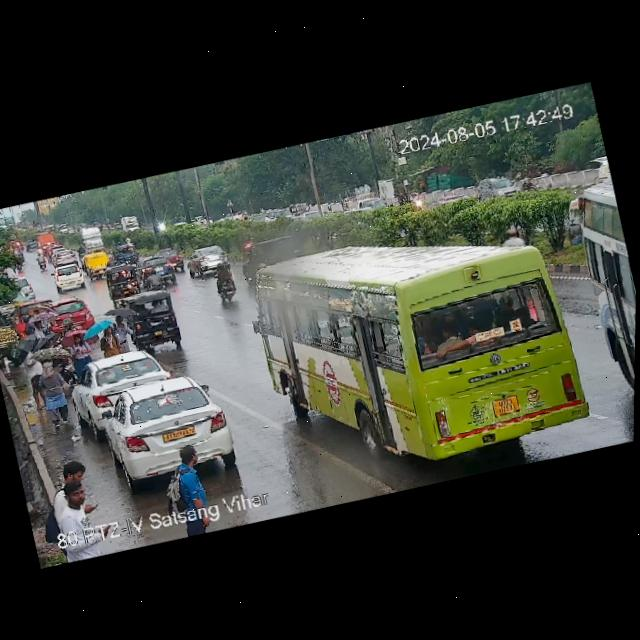bus: (243, 195, 595, 488), (530, 162, 638, 368), (553, 167, 635, 309), (581, 223, 637, 416)
car: (87, 365, 243, 492), (68, 343, 174, 425), (112, 284, 185, 355), (47, 290, 95, 333), (101, 259, 142, 302), (183, 240, 229, 278), (473, 170, 522, 203), (135, 253, 175, 288), (51, 262, 85, 293), (80, 249, 111, 278), (20, 293, 58, 316), (161, 245, 185, 271), (53, 249, 77, 267), (120, 239, 139, 261), (42, 241, 56, 262), (52, 244, 69, 255)
motorcycle: (212, 259, 235, 299), (142, 266, 166, 292), (103, 246, 130, 269), (409, 189, 425, 208), (242, 234, 256, 255), (522, 175, 536, 190), (36, 252, 47, 269), (397, 191, 408, 204), (77, 244, 85, 255), (35, 246, 44, 255)
person: (169, 437, 215, 507), (54, 457, 102, 518), (35, 359, 72, 426), (94, 308, 135, 360), (22, 348, 49, 407), (25, 311, 56, 342), (67, 333, 94, 367), (57, 315, 77, 333)
truck: (79, 222, 107, 253)
